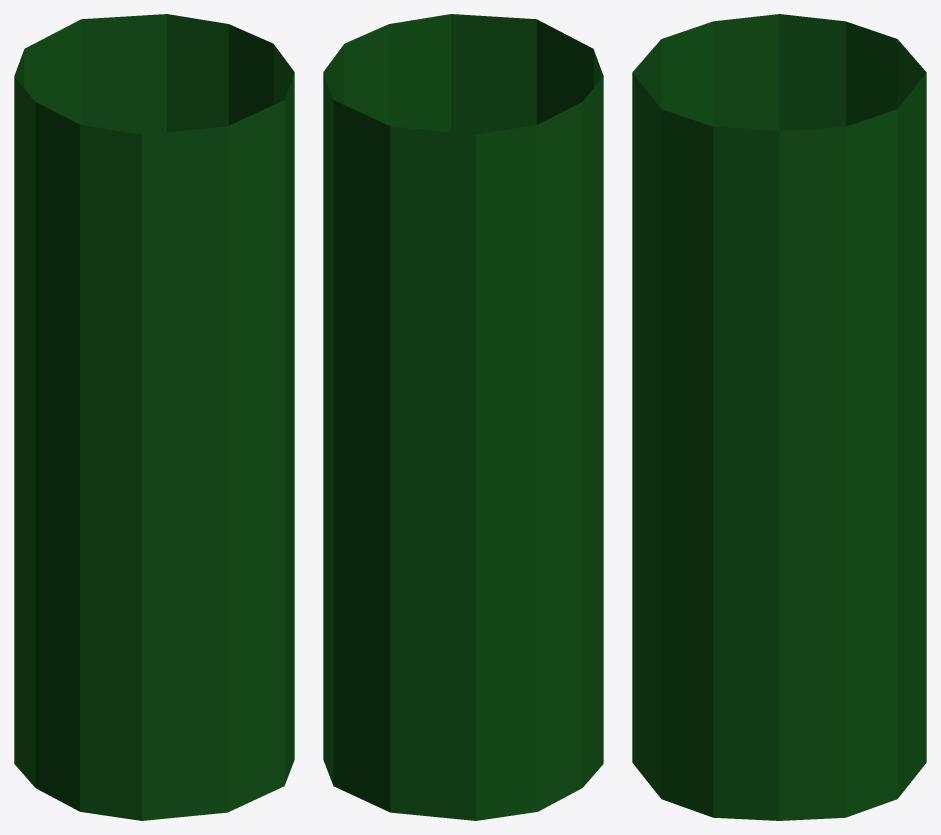
File: TallSeaweedStem.fbx
3 views of the same model, side by side, from view 1: azimuth 30°, elevation 25°; view 2: azimuth 150°, elevation 25°; view 3: azimuth 270°, elevation 25° (orthographic).
Visible parts, largest first — view 1: Stem; view 2: Stem; view 3: Stem.
Boxes of the visible parts, left/top/right/bottom form: Stem: left=14, top=14, right=294, bottom=820; Stem: left=323, top=14, right=603, bottom=820; Stem: left=632, top=14, right=926, bottom=820.
Size of the model in its own units: 0.8944 by 2.47 by 0.952.
